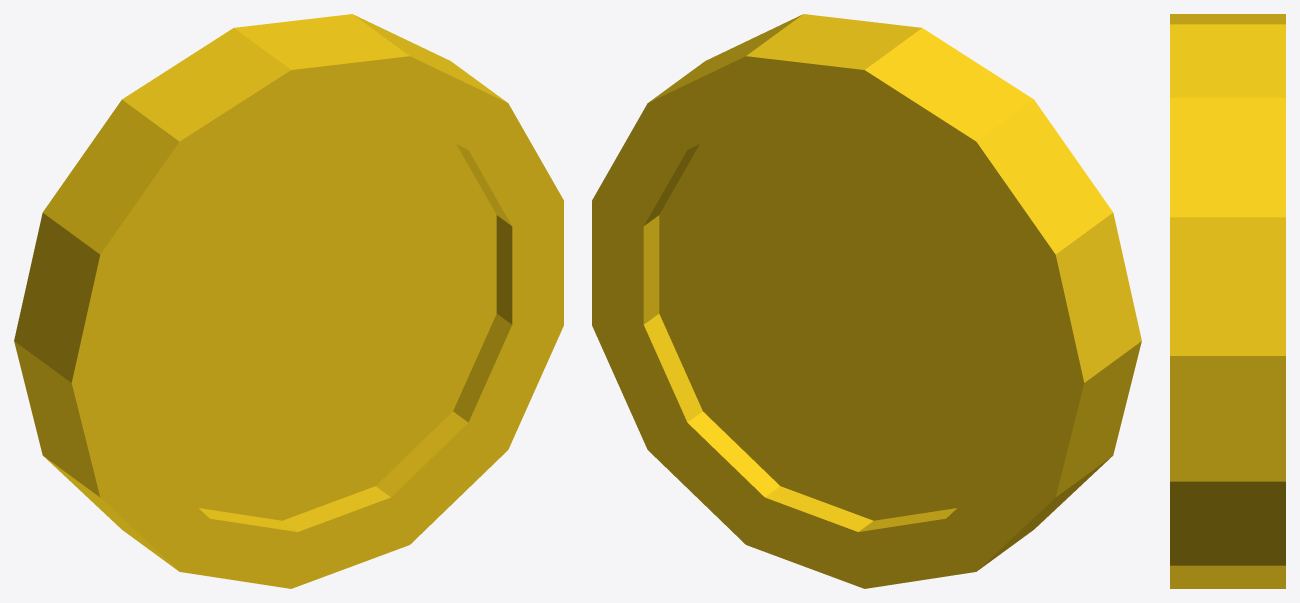
Rendered from Coin.fbx.
3 renders of one model, left to right at view 1: azimuth 30°, elevation 25°; view 2: azimuth 150°, elevation 25°; view 3: azimuth 270°, elevation 25°, orthographic.
Parts seen in each view (by area): view 1: Coin; view 2: Coin; view 3: Coin.
Part boxes in pixels (x1=…): Coin: x1=14, y1=14, x2=563, y2=588; Coin: x1=592, y1=14, x2=1141, y2=588; Coin: x1=1170, y1=14, x2=1285, y2=588.
Bounding box in the file's own units: 197 × 199 × 39.96.
